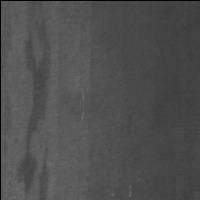inclusion: (17, 2, 62, 200)
